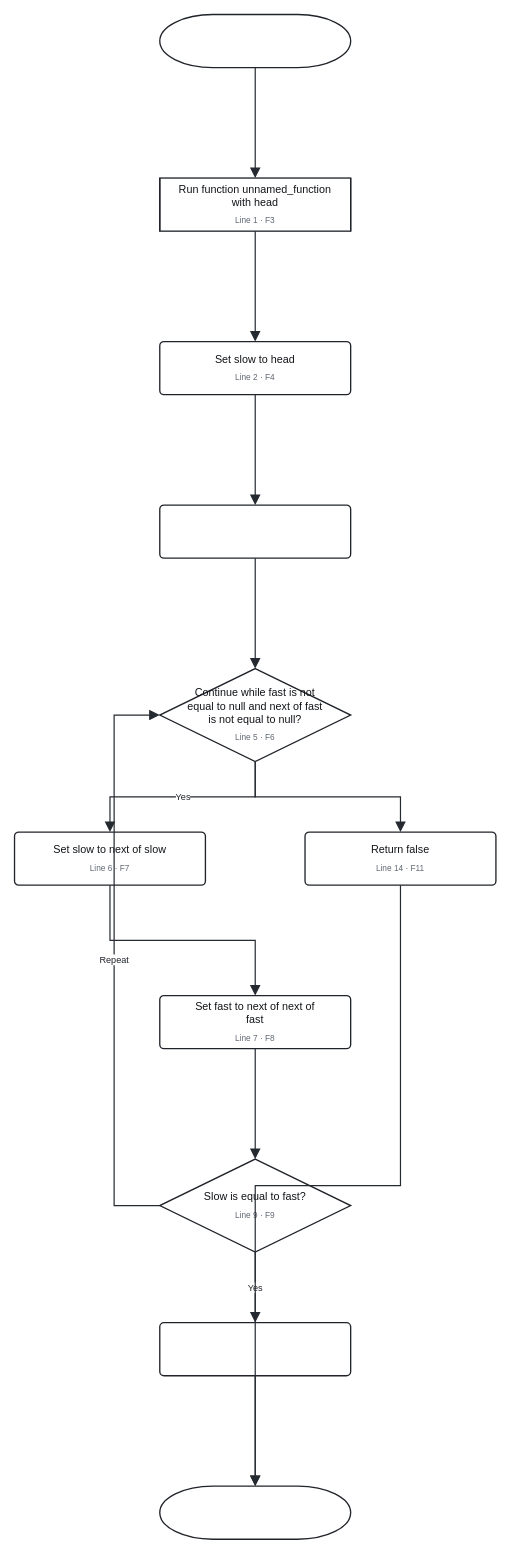
The diagram is 511 pixels wide and 1555 high, and some of its shapes have lost their labels. Each missing label, with the box of its shape:
End Line 1 · F2: (159, 1485, 351, 1539)
Return true Line 10 · F10: (159, 1322, 351, 1376)
Set fast to head Line 3 · F5: (159, 504, 351, 558)
Start Line 1 · F1: (159, 13, 351, 68)
